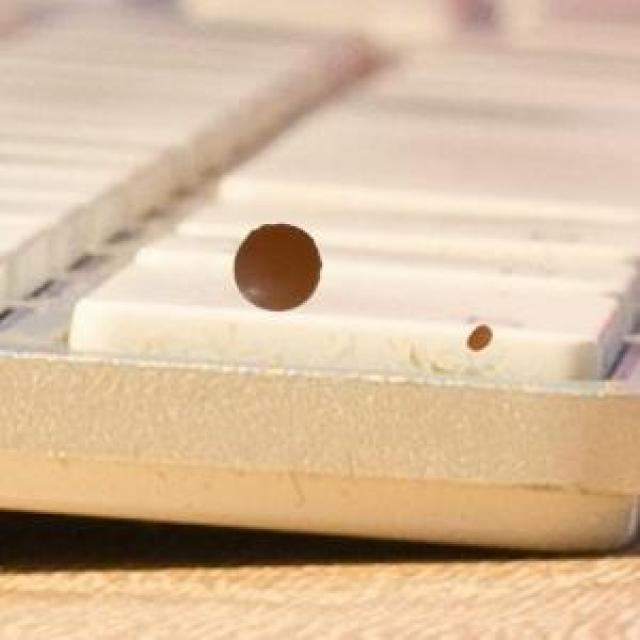Bactidol: (227, 206, 331, 329), (457, 315, 497, 364)
